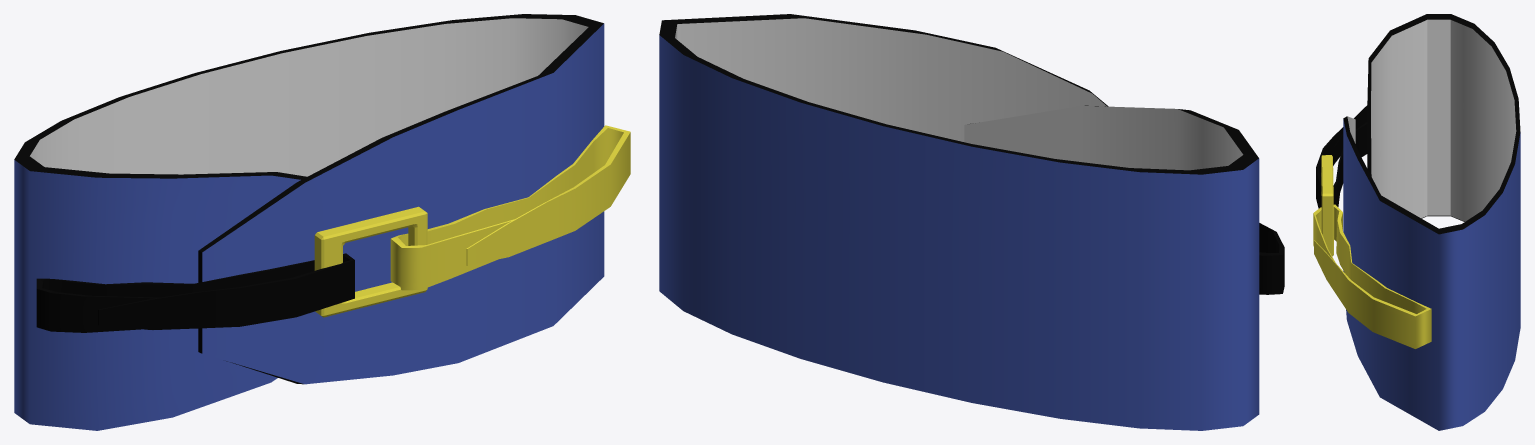
File: Faja_Pelvica_002.fbx
The picture shows the model from 3 angles, left to right: view 1: azimuth 30°, elevation 25°; view 2: azimuth 150°, elevation 25°; view 3: azimuth 270°, elevation 25°; orthographic projection. The views are drawn at different scales.
Visible parts, largest first — view 1: Faja_Pelvica; view 2: Faja_Pelvica; view 3: Faja_Pelvica.
Part boxes in pixels (x1,y1,x2,y2): Faja_Pelvica: (14,14,630,430); Faja_Pelvica: (659,14,1284,430); Faja_Pelvica: (1313,14,1520,430).
Bounding box in the file's own units: 7.8 × 3.13 × 2.99.
